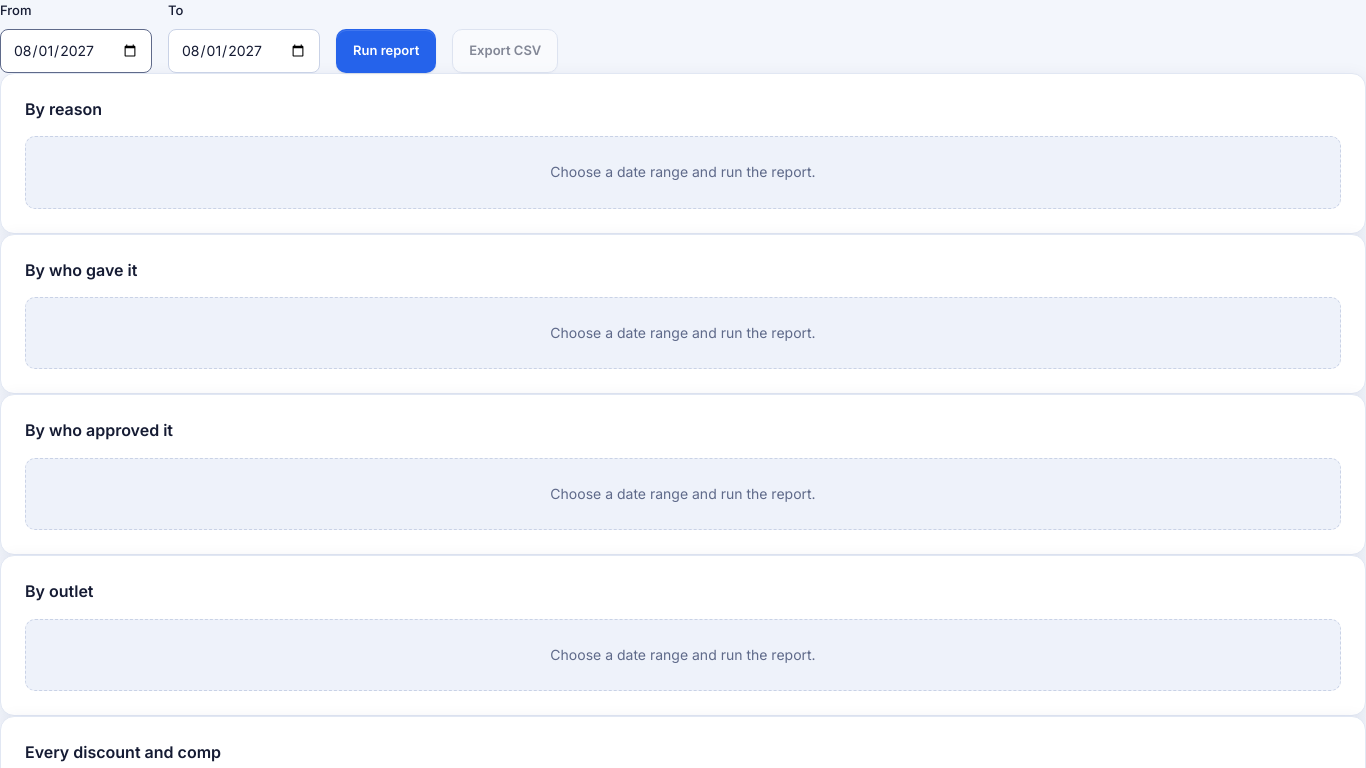
Scenario: <DiscountsTab> › asks nothing until the report is run, then shows the summary, the groupings and every line
expect the 1st text "Choose a date range and run the report." is shown: met, box [550,161,816,184]
Step 1. Click the button "Run report" → {"x": 386, "y": 51}, box [336,29,436,73]
(page scrolled)
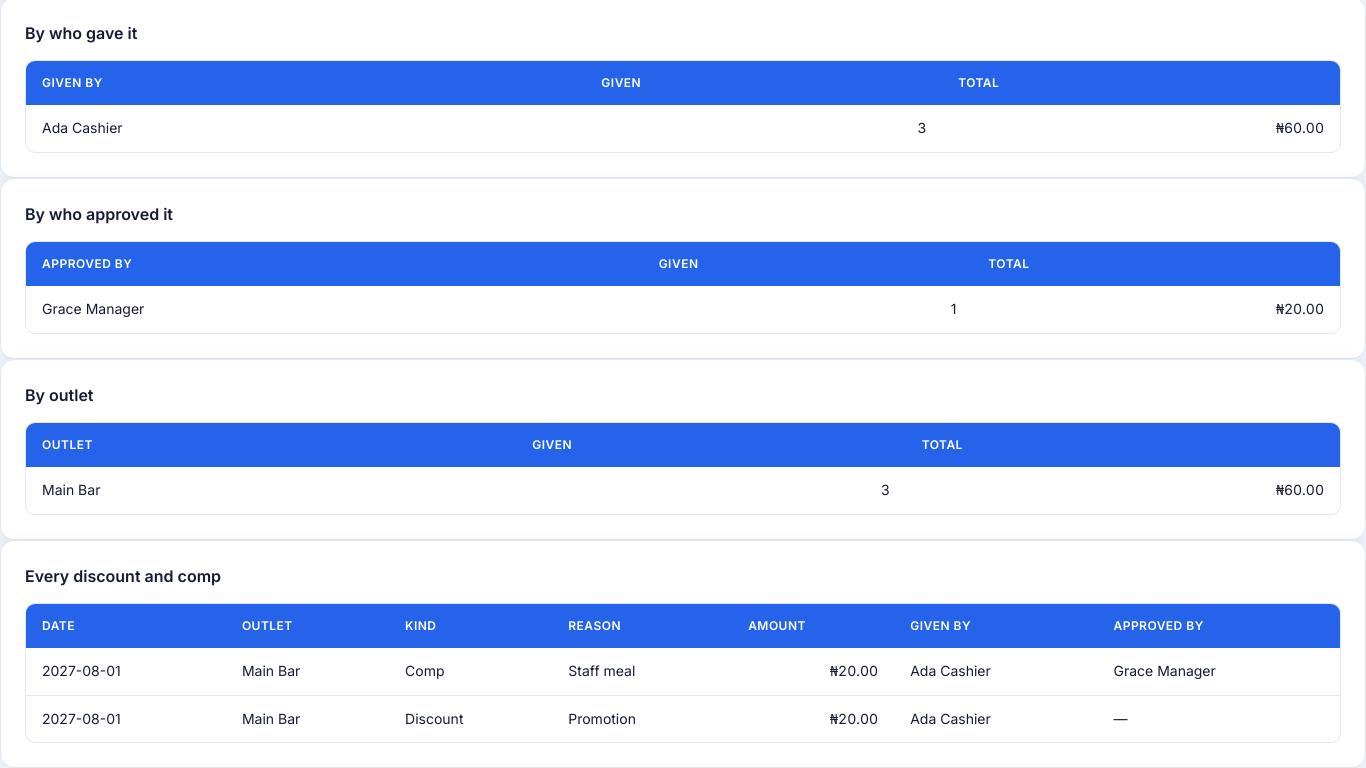
expect the text "Grace Manager" below "By who approved it" is shown: met, box [42,300,144,317]
expect the 8th row is shown: met, box [26,648,1340,695]
expect the 2nd text "Grace Manager" is shown: met, box [1098,648,1340,695]
